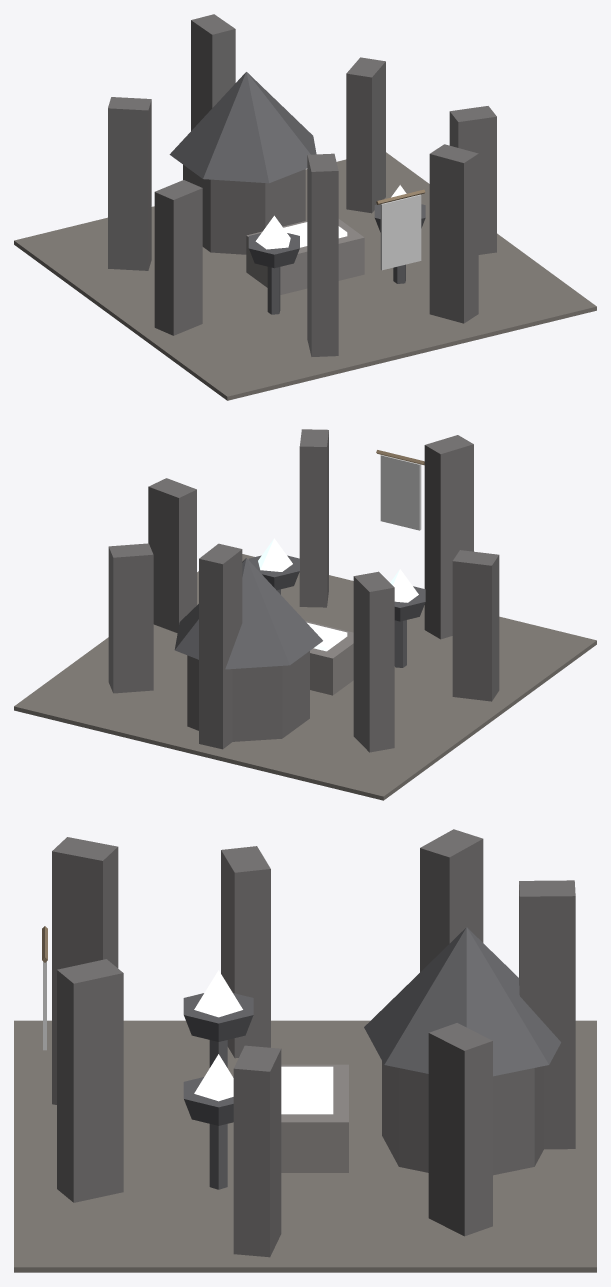
The picture shows the model from 3 angles, top to bottom: view 1: azimuth 30°, elevation 25°; view 2: azimuth 150°, elevation 25°; view 3: azimuth 270°, elevation 25°; orthographic projection. The views are drawn at different scales.
Visible parts, largest first — view 1: body; view 2: body; view 3: body.
Part boxes in pixels (x1,y1,x2,y2): body: (14, 14, 596, 400); body: (14, 429, 596, 800); body: (14, 829, 596, 1272).
Bounding box in the file's own units: 9.4 × 4.6 × 9.4.
